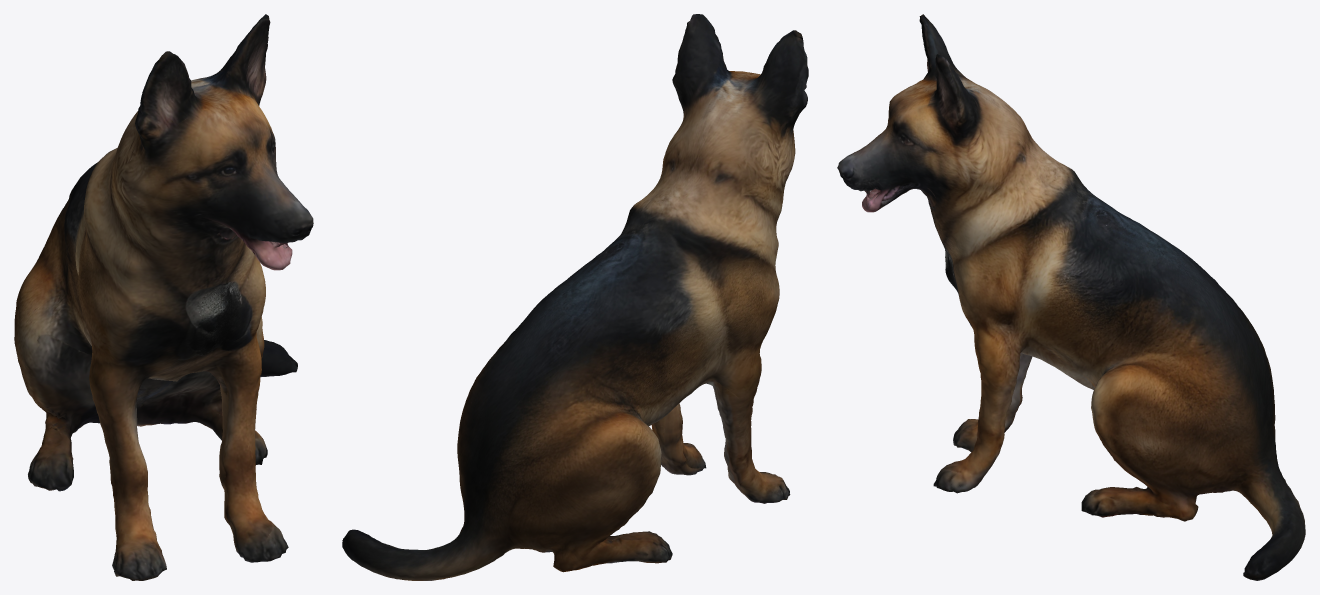
File: dog.glb
3 views of the same model, side by side, from view 1: azimuth 30°, elevation 25°; view 2: azimuth 150°, elevation 25°; view 3: azimuth 270°, elevation 25° (orthographic). The views are drawn at different scales.
Visible parts, largest first — view 1: Mesh_0_Material_0_0; view 2: Mesh_0_Material_0_0; view 3: Mesh_0_Material_0_0.
Boxes of the visible parts, left/top/right/bottom form: Mesh_0_Material_0_0: left=14, top=14, right=313, bottom=580; Mesh_0_Material_0_0: left=342, top=14, right=808, bottom=580; Mesh_0_Material_0_0: left=837, top=14, right=1305, bottom=580.
Bounding box in the file's own units: 0.8082 × 1.2 × 1.15.
1 material, 1 textured.
